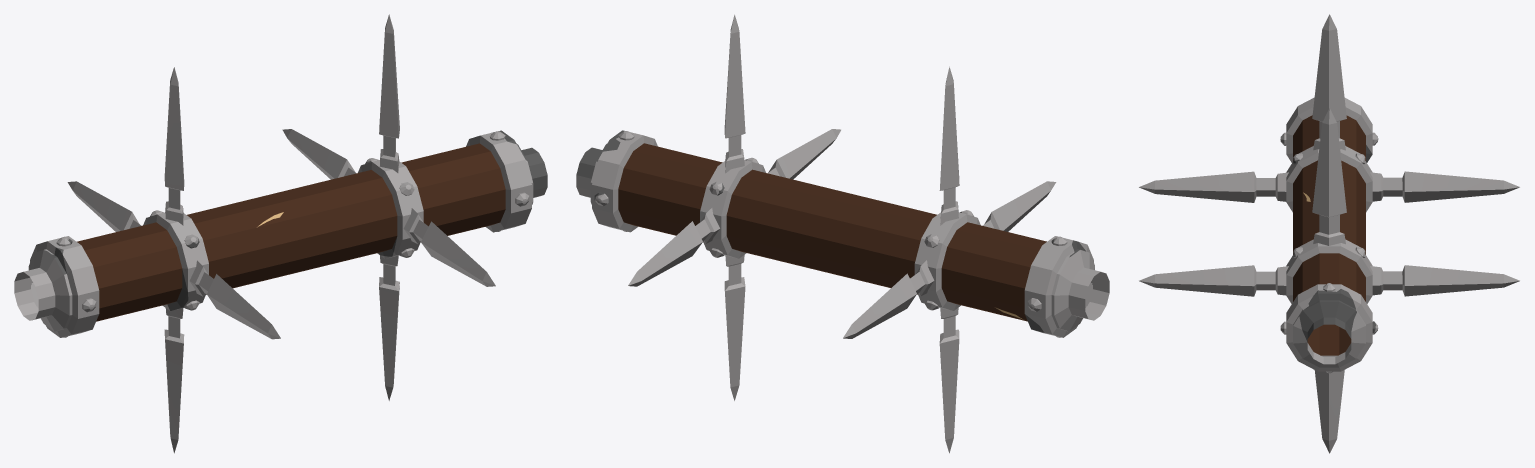
The model's file is H_SpinningSpikeB.fbx.
3 renders of one model, left to right at view 1: azimuth 30°, elevation 25°; view 2: azimuth 150°, elevation 25°; view 3: azimuth 270°, elevation 25°, orthographic. The views are drawn at different scales.
Parts seen in each view (by area): view 1: H_SpinningSpikeB; view 2: H_SpinningSpikeB; view 3: H_SpinningSpikeB.
Boxes of the visible parts, x1=… form: H_SpinningSpikeB: x1=14, y1=14, x2=547, y2=453; H_SpinningSpikeB: x1=576, y1=14, x2=1109, y2=453; H_SpinningSpikeB: x1=1139, y1=14, x2=1519, y2=453.
Bounding box in the file's own units: 545 × 397 × 397.
